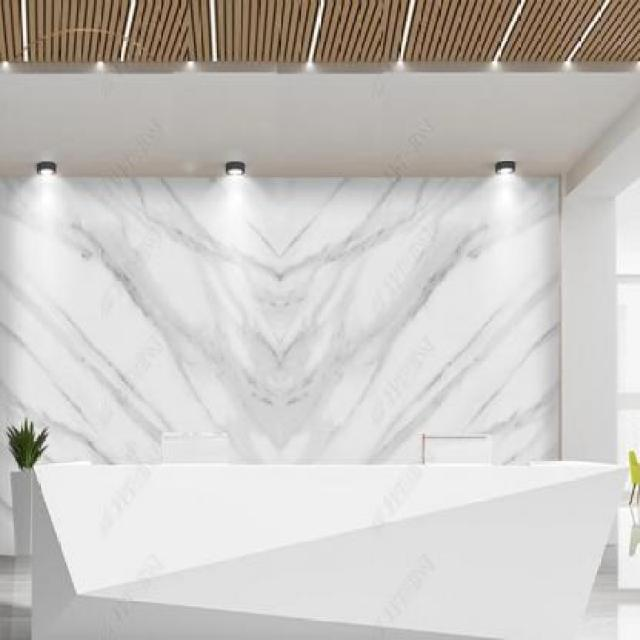frontdesk: (20, 451, 640, 640)
